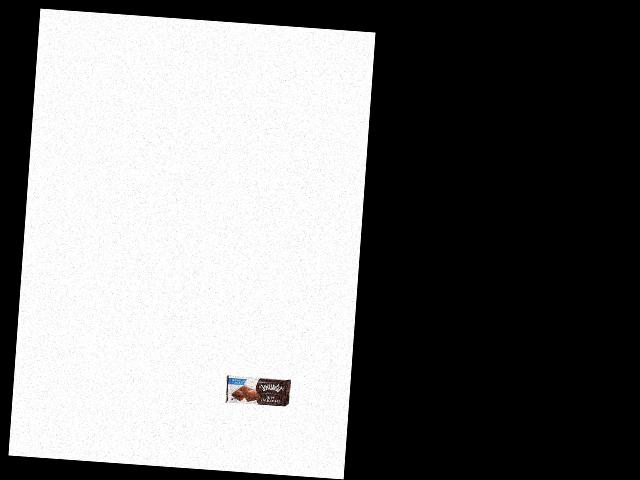chocolate: (224, 373, 290, 408)
